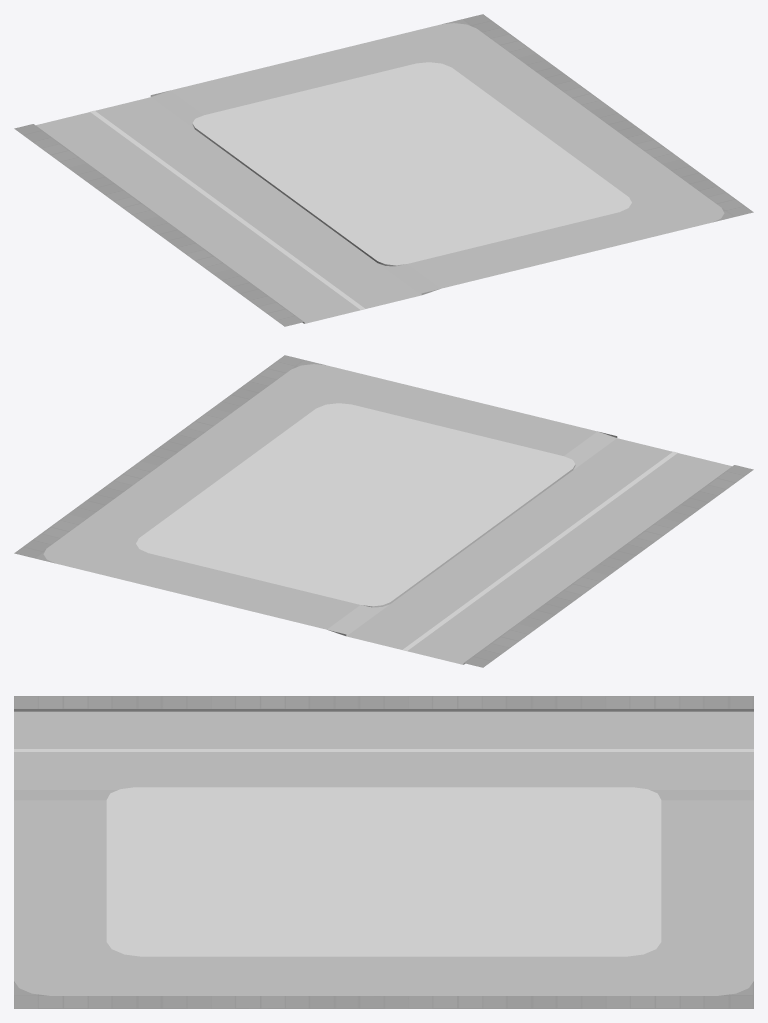
File: tile_road_bay_3x3_a.fbx
The picture shows the model from 3 angles, top to bottom: view 1: azimuth 30°, elevation 25°; view 2: azimuth 150°, elevation 25°; view 3: azimuth 270°, elevation 25°; orthographic projection. The views are drawn at different scales.
Visible parts, largest first — view 1: tile_road_bay_3x3_a; view 2: tile_road_bay_3x3_a; view 3: tile_road_bay_3x3_a.
Part boxes in pixels (<box>): tile_road_bay_3x3_a: <box>14,14,753,326</box>; tile_road_bay_3x3_a: <box>14,355,753,667</box>; tile_road_bay_3x3_a: <box>14,696,753,1008</box>.
Size of the model in its own units: 4800 by 19.01 by 4800.
